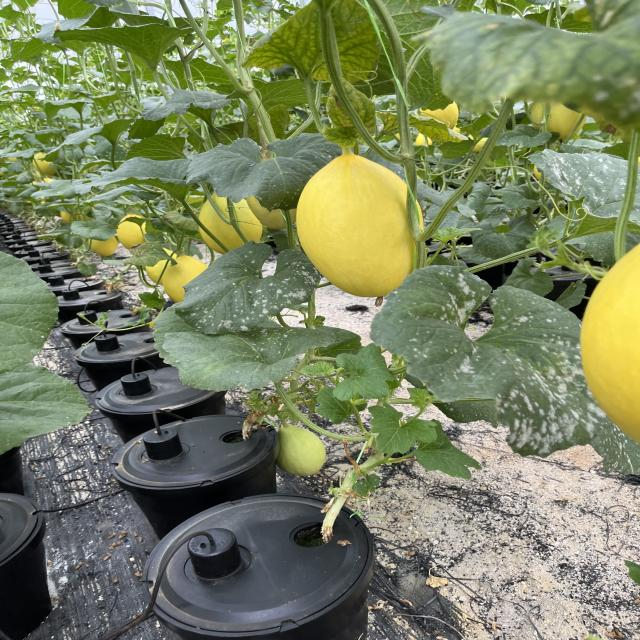downy mildew: (153, 320, 366, 394)
healthy: (192, 128, 332, 212)
powdery mildew: (366, 263, 604, 458), (168, 228, 320, 332), (529, 137, 640, 226)
